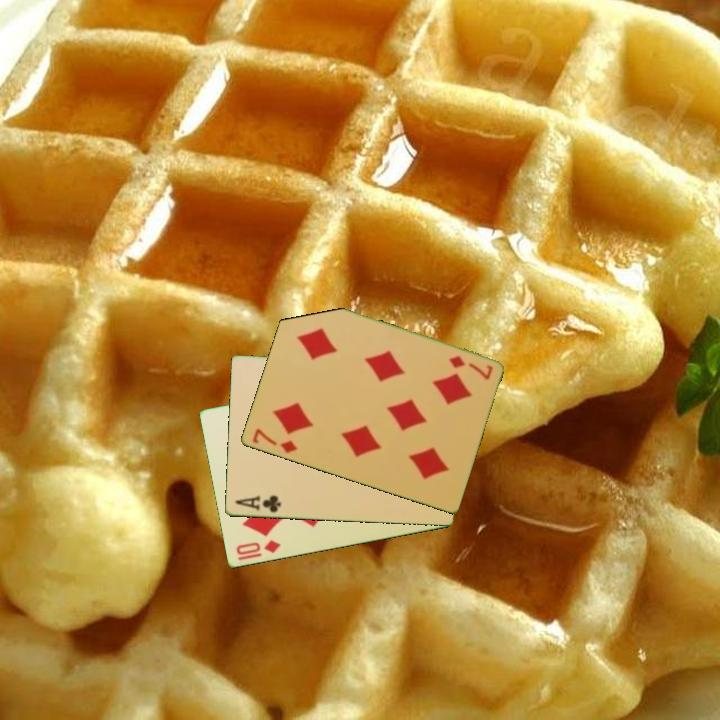10d: (232, 536, 283, 558)
7d: (248, 425, 300, 457), (445, 352, 495, 383)
Ac: (232, 492, 283, 515)
